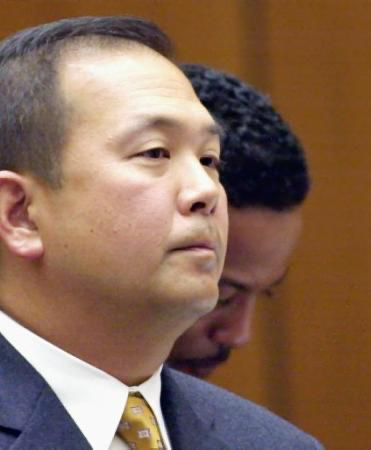Face: (83, 76, 230, 330), (167, 219, 293, 381)
